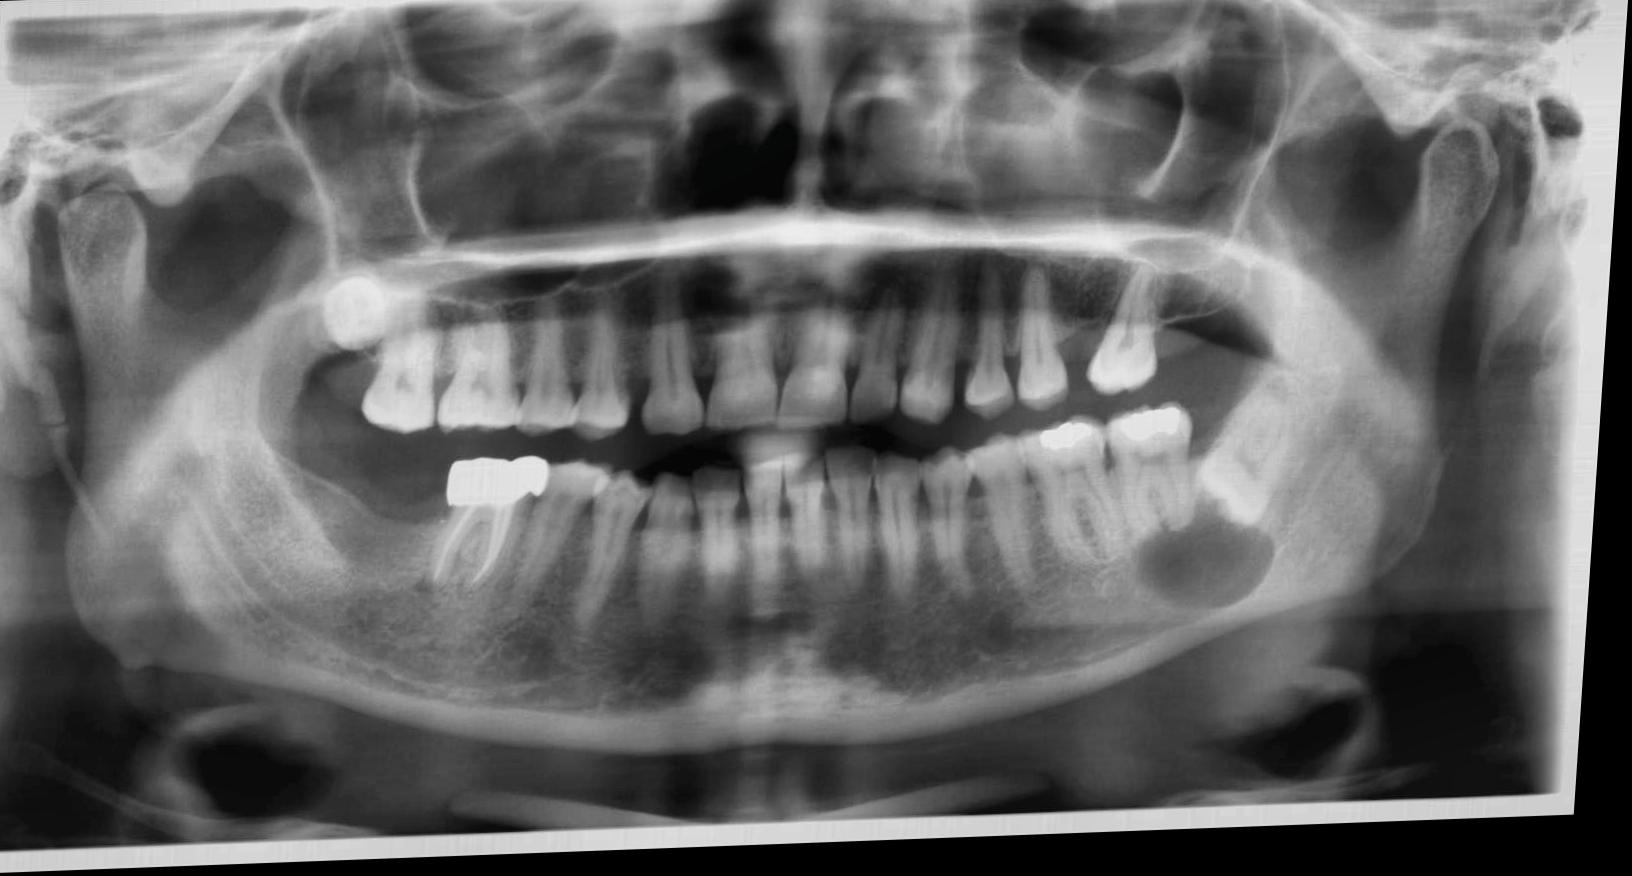dentigeroz: (1140, 498, 1291, 624)
